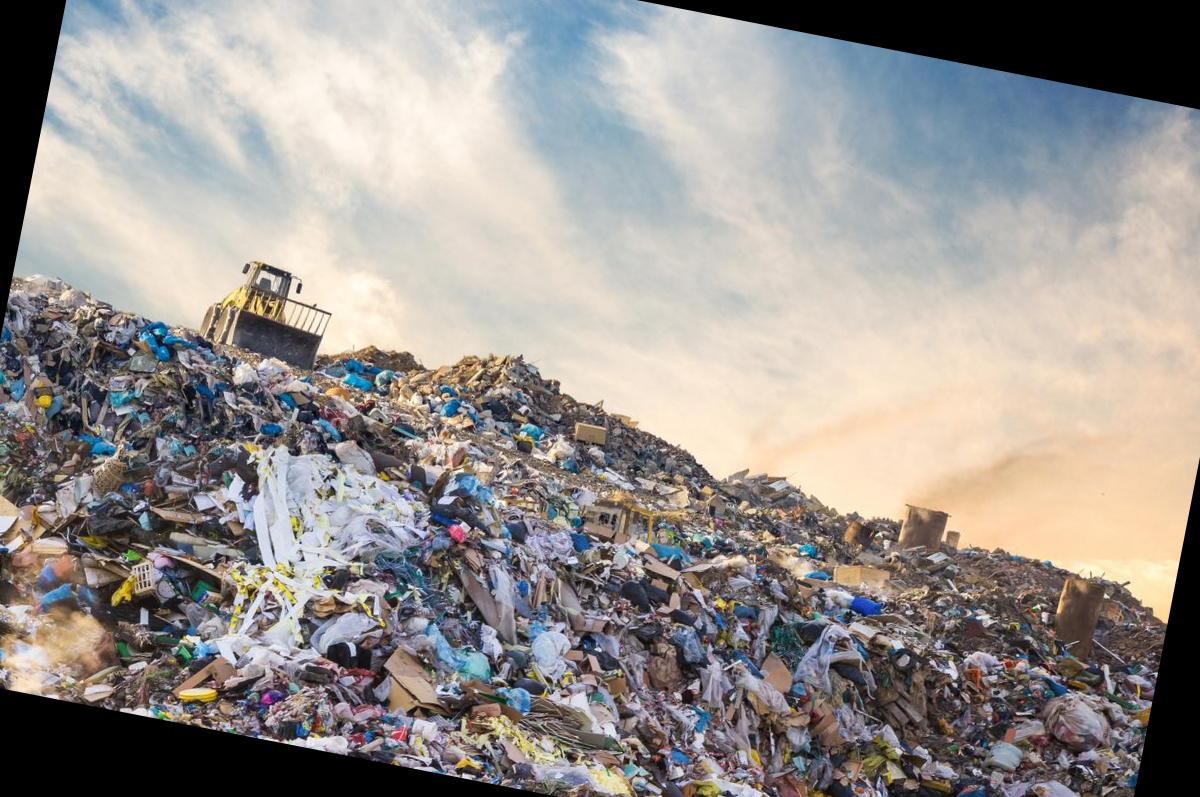sky: (15, 0, 1200, 617)
trash: (0, 275, 1168, 797)
